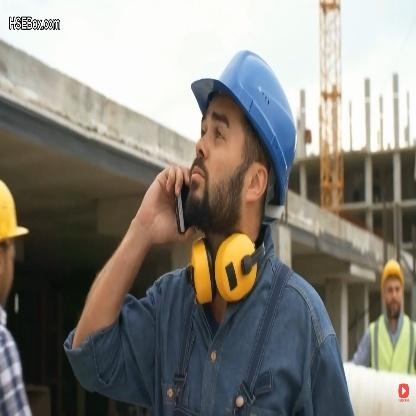helmet: (167, 36, 296, 259)
